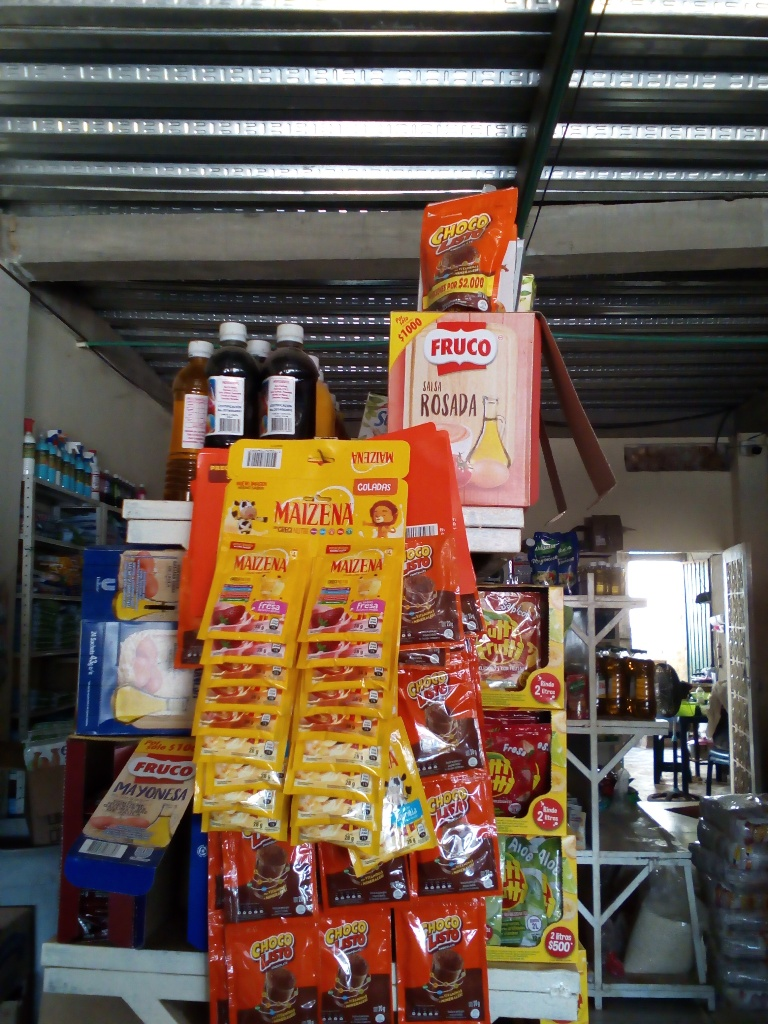COL0170103SOB02000: (401, 535, 468, 646)
